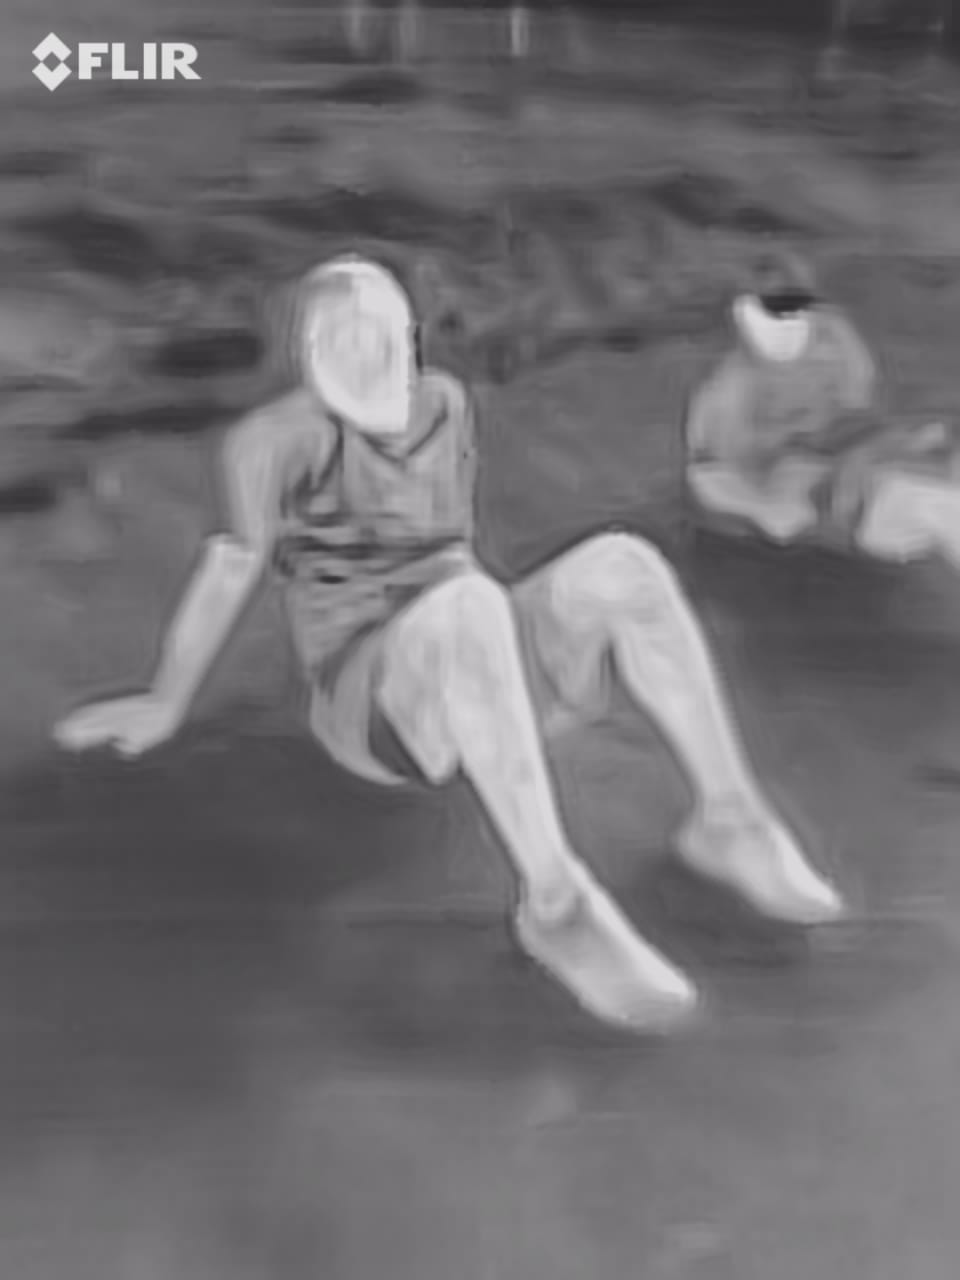head: (274, 246, 452, 438)
